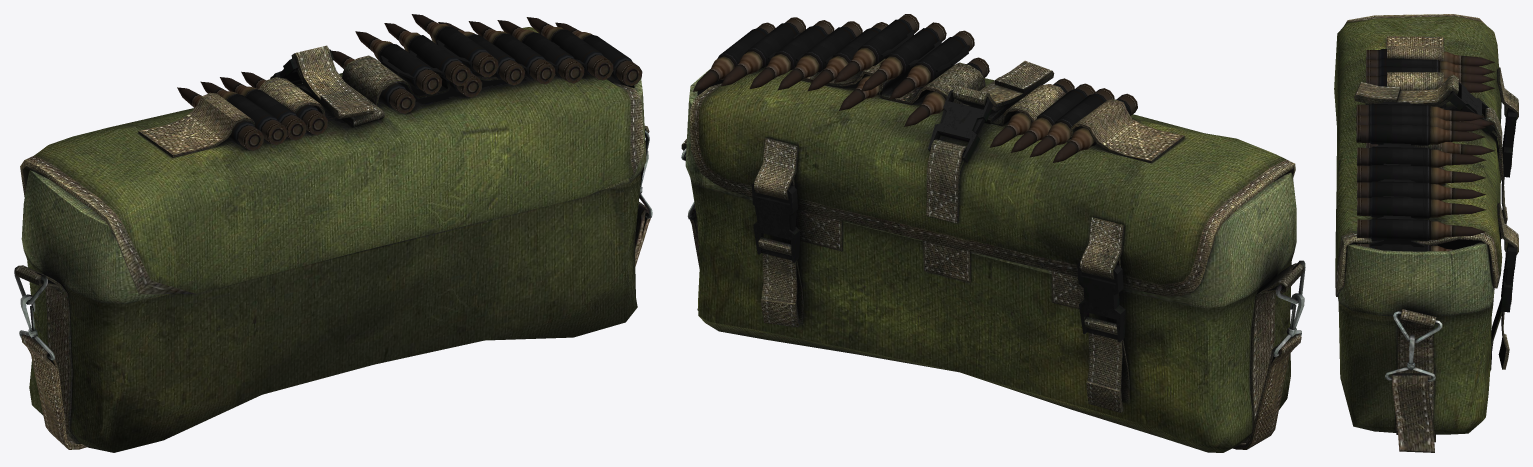
Rendered from AmmoBox.fbx.
3 renders of one model, left to right at view 1: azimuth 30°, elevation 25°; view 2: azimuth 150°, elevation 25°; view 3: azimuth 270°, elevation 25°, orthographic. The views are drawn at different scales.
Parts seen in each view (by area): view 1: Ноль_объект; view 2: Ноль_объект; view 3: Ноль_объект.
Boxes of the visible parts, x1,y1,x2,y2 form: Ноль_объект: (14,14,652,452); Ноль_объект: (681,14,1305,452); Ноль_объект: (1334,14,1518,452).
Bounding box in the file's own units: 49.4 × 24.05 × 15.19.
Materials: 2 (2 with a texture image).
